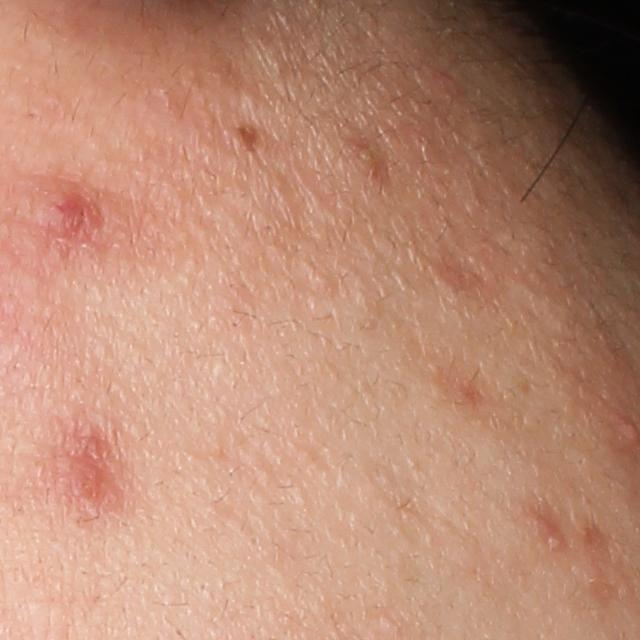comedo: (236, 85, 263, 116)
papule: (35, 181, 115, 252), (52, 445, 118, 515), (523, 507, 568, 549)
